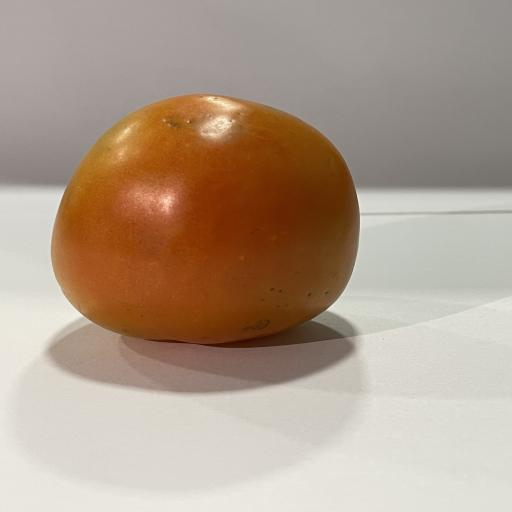unripe: (51, 94, 359, 344)
